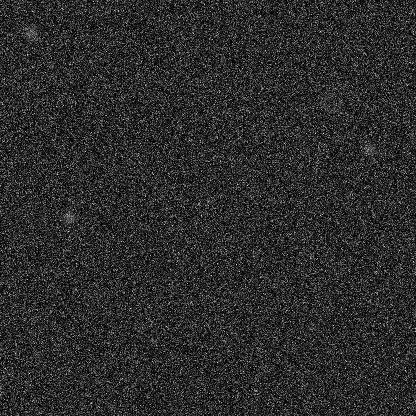Ring: (320, 90, 344, 114)
Spot: (345, 61, 361, 77), (360, 140, 376, 156), (302, 233, 318, 249), (61, 210, 77, 226), (22, 25, 38, 41)
